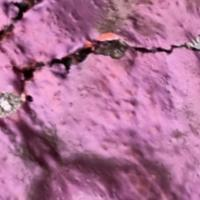crack: (0, 2, 186, 96)
